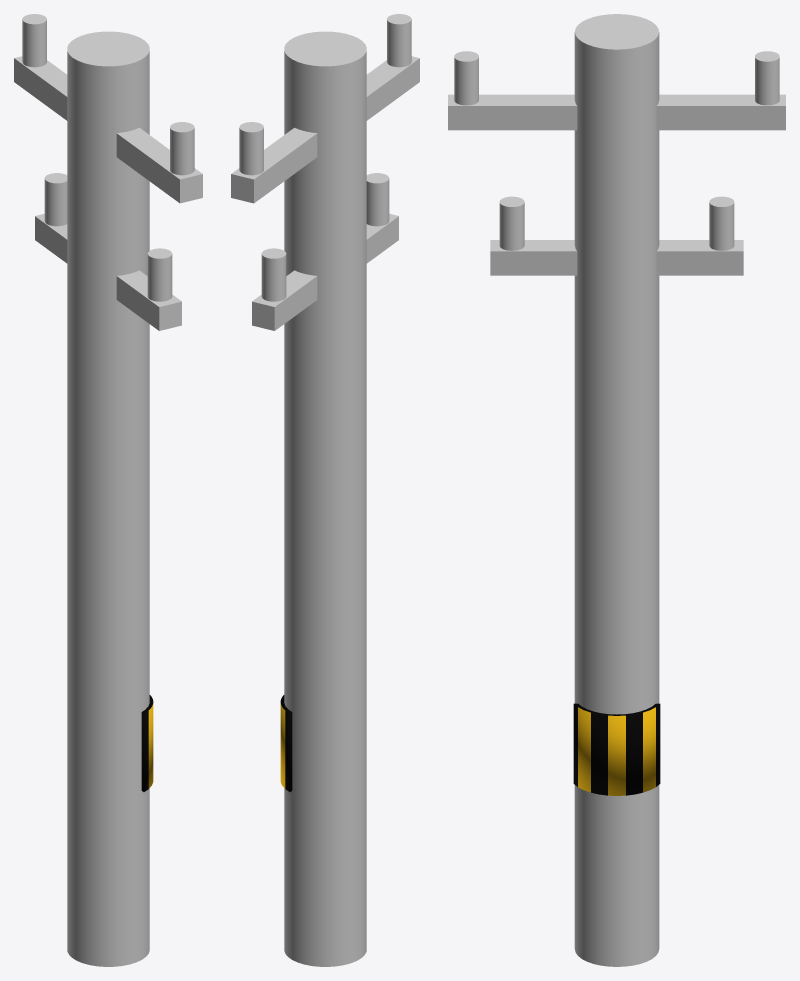
File: denntyu.fbx
3 views of the same model, side by side, from view 1: azimuth 30°, elevation 25°; view 2: azimuth 150°, elevation 25°; view 3: azimuth 270°, elevation 25° (orthographic).
Parts seen in each view (by area): view 1: 円柱, 立方体, 立方体.001, 円柱.003, 円柱.004, 円柱.001, 円柱.002, 円柱.005; view 2: 円柱, 立方体, 立方体.001, 円柱.002, 円柱.001, 円柱.004, 円柱.003, 円柱.005; view 3: 円柱, 立方体, 円柱.005, 立方体.001, 円柱.002, 円柱.003, 円柱.001, 円柱.004.
Part boxes in pixels (x1=…): 円柱: x1=67, y1=31, x2=149, y2=966; 立方体: x1=14, y1=56, x2=202, y2=203; 立方体.001: x1=35, y1=213, x2=181, y2=330; 円柱.003: x1=147, y1=248, x2=172, y2=301; 円柱.004: x1=170, y1=122, x2=194, y2=175; 円柱.001: x1=22, y1=14, x2=46, y2=67; 円柱.002: x1=44, y1=173, x2=67, y2=226; 円柱.005: x1=141, y1=695, x2=153, y2=791; 円柱: x1=284, y1=31, x2=366, y2=966; 立方体: x1=231, y1=56, x2=419, y2=203; 立方体.001: x1=252, y1=213, x2=398, y2=330; 円柱.002: x1=261, y1=248, x2=286, y2=301; 円柱.001: x1=239, y1=122, x2=263, y2=175; 円柱.004: x1=387, y1=14, x2=411, y2=67; 円柱.003: x1=366, y1=173, x2=389, y2=226; 円柱.005: x1=280, y1=695, x2=292, y2=791; 円柱: x1=574, y1=14, x2=659, y2=966; 立方体: x1=448, y1=94, x2=785, y2=130; 円柱.005: x1=573, y1=703, x2=660, y2=795; 立方体.001: x1=490, y1=240, x2=743, y2=275; 円柱.002: x1=709, y1=196, x2=734, y2=250; 円柱.003: x1=499, y1=196, x2=524, y2=250; 円柱.001: x1=755, y1=51, x2=779, y2=105; 円柱.004: x1=454, y1=51, x2=478, y2=105.
Size of the model in its own units: 0.5205 by 6 by 2.
